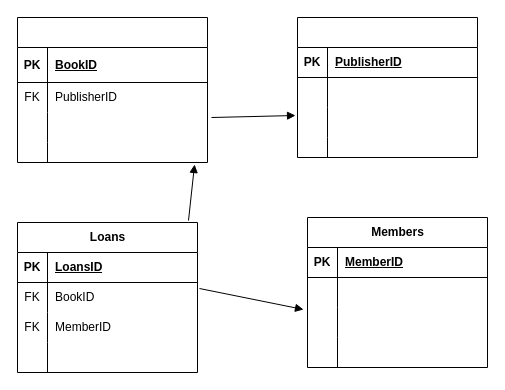
The diagram is 505 pixels wide and 390 high, and some of its shapes have lost their labels. Here are the shapes that lost their labels. From the top down, the box of each, then its label:
(16, 16, 208, 162): Books
(296, 16, 478, 158): Publishers
